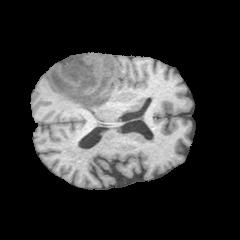glioma: (50, 54, 119, 111)
